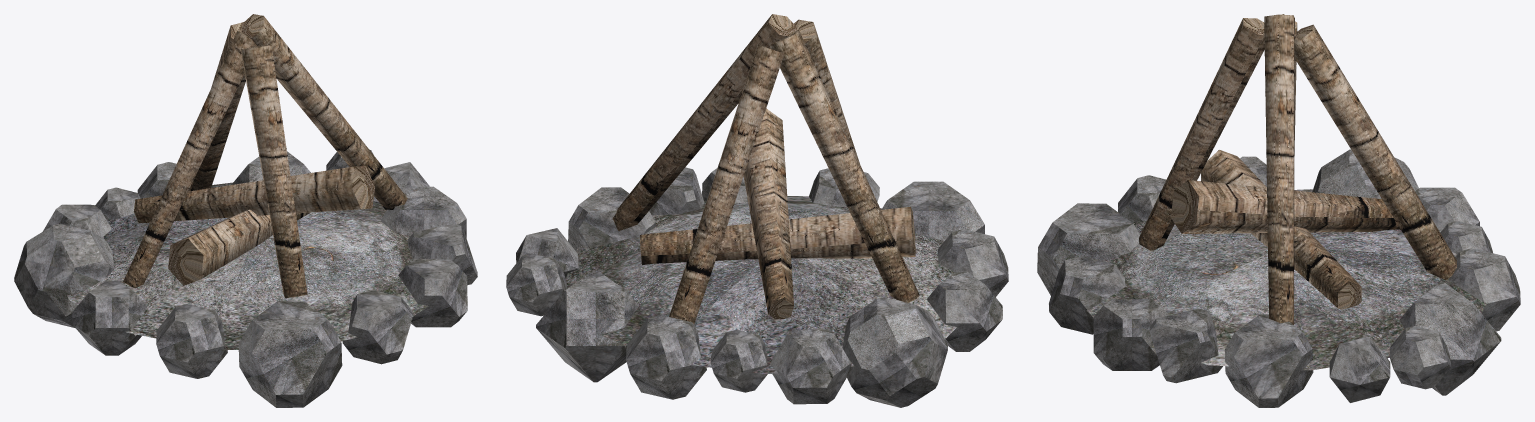
Rendered from campfire.fbx.
3 renders of one model, left to right at view 1: azimuth 30°, elevation 25°; view 2: azimuth 150°, elevation 25°; view 3: azimuth 270°, elevation 25°, orthographic. The views are drawn at different scales.
Visible parts, largest first — view 1: Sphere001, Hedra005, Cone003, Hedra002, Cone002, Cone006, Cone005, Cone001, Hedra004, Hedra003, Hedra006, Hedra007 (+8 smaller); view 2: Sphere001, Hedra002, Cone006, Cone004, Cone001, Hedra011, Cone002, Cone005, Hedra012, Hedra001, Hedra003, Hedra005 (+8 smaller); view 3: Sphere001, Cone004, Cone005, Cone002, Cone003, Hedra009, Hedra011, Hedra005, Cone001, Hedra007, Hedra008, Hedra006 (+7 smaller).
Boxes of the visible parts, x1,y1,x2,y2 form: Sphere001: [67, 182, 428, 350]; Hedra005: [238, 301, 342, 407]; Cone003: [240, 44, 307, 298]; Hedra002: [14, 223, 113, 328]; Cone002: [133, 166, 374, 223]; Cone006: [123, 29, 257, 288]; Cone005: [241, 14, 407, 210]; Cone001: [168, 209, 310, 285]; Hedra004: [156, 304, 227, 378]; Hedra003: [72, 280, 147, 355]; Hedra006: [342, 290, 412, 364]; Hedra007: [398, 259, 467, 327]; Sphere001: [565, 196, 983, 374]; Hedra002: [842, 297, 947, 407]; Cone006: [769, 30, 919, 302]; Cone004: [669, 45, 784, 324]; Cone001: [640, 206, 915, 264]; Hedra011: [536, 270, 638, 382]; Cone002: [743, 108, 793, 319]; Cone005: [612, 14, 797, 231]; Hedra012: [626, 315, 707, 399]; Hedra001: [770, 329, 851, 404]; Hedra003: [926, 272, 1002, 351]; Hedra005: [881, 181, 984, 240]; Sphere001: [1086, 189, 1487, 370]; Cone004: [1294, 24, 1456, 280]; Cone005: [1264, 14, 1294, 324]; Cone002: [1170, 180, 1400, 233]; Cone003: [1139, 18, 1264, 250]; Hedra009: [1224, 314, 1313, 407]; Hedra011: [1399, 282, 1501, 395]; Hedra005: [1037, 203, 1139, 295]; Cone001: [1201, 150, 1361, 309]; Hedra007: [1093, 299, 1168, 370]; Hedra008: [1149, 308, 1222, 383]; Hedra006: [1049, 256, 1125, 334].
Bounding box in the file's own units: 45.51 × 32.56 × 44.57.
2 materials, 2 textured.
